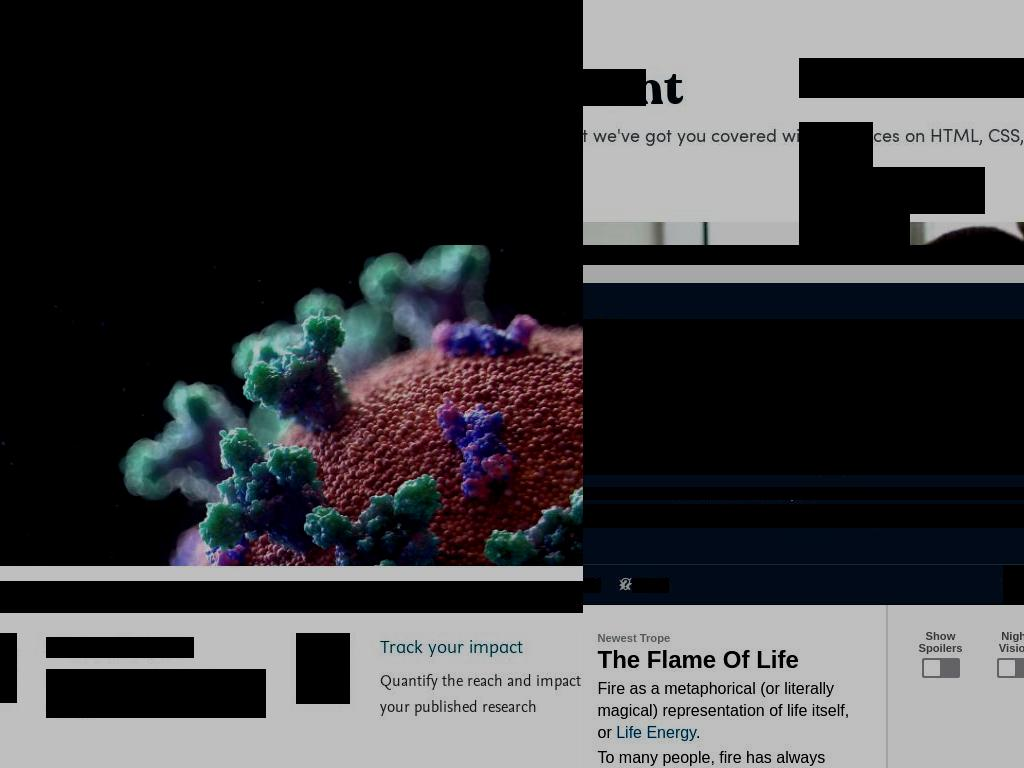button: (799, 58, 1024, 98), (799, 167, 985, 214), (799, 213, 910, 245), (799, 122, 873, 168), (475, 26, 583, 56), (296, 655, 350, 679), (406, 26, 437, 56), (441, 26, 472, 56), (356, 0, 473, 7), (257, 0, 335, 10), (493, 0, 556, 7), (0, 655, 17, 679)
heading: (0, 157, 583, 245), (583, 61, 1024, 118), (0, 581, 583, 613), (583, 504, 1024, 528), (597, 646, 799, 673), (0, 264, 100, 304), (46, 637, 194, 658), (379, 637, 523, 658)
image: (0, 0, 583, 245), (583, 319, 1024, 475), (296, 633, 350, 704), (0, 633, 17, 703), (921, 658, 960, 678), (996, 658, 1024, 678), (410, 30, 433, 52)
link: (479, 29, 583, 51), (616, 724, 696, 741)
text: (583, 125, 1024, 178), (597, 680, 850, 741), (46, 669, 266, 718), (379, 669, 583, 718), (0, 329, 100, 420), (583, 487, 1024, 500), (46, 669, 155, 692), (154, 669, 205, 692), (918, 630, 963, 654), (597, 632, 671, 644), (998, 630, 1024, 654), (632, 578, 669, 593), (583, 578, 601, 593), (695, 724, 701, 741)
